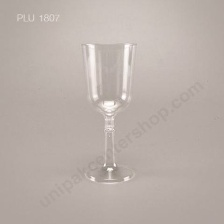glass: (78, 37, 149, 194)
